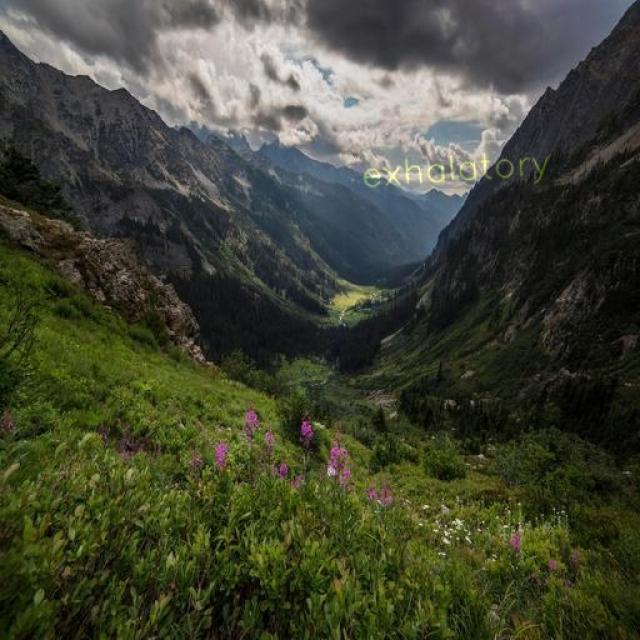watermark: (352, 145, 551, 193)
